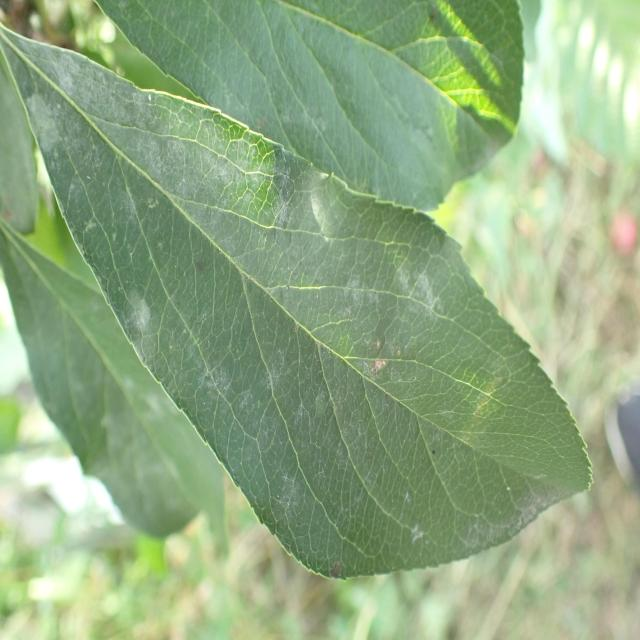Powdery_mildew: (8, 29, 569, 568)
